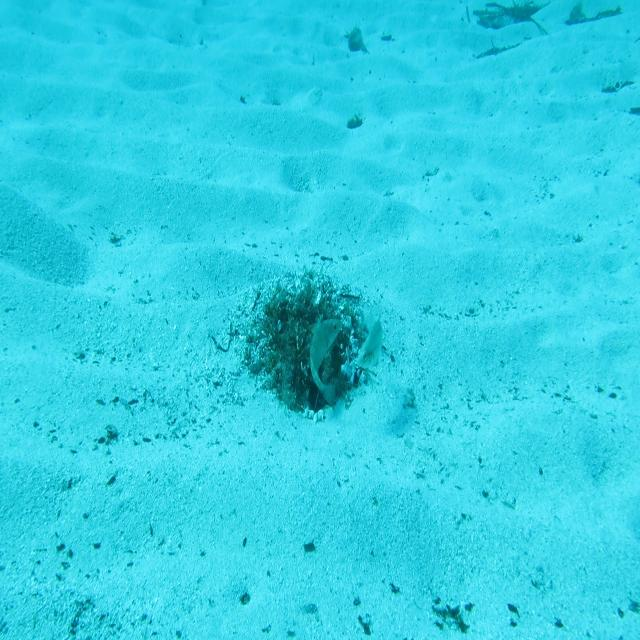DAN_CIRC: (304, 311, 345, 407)
female: (356, 304, 384, 373)
nest: (245, 269, 376, 418)
